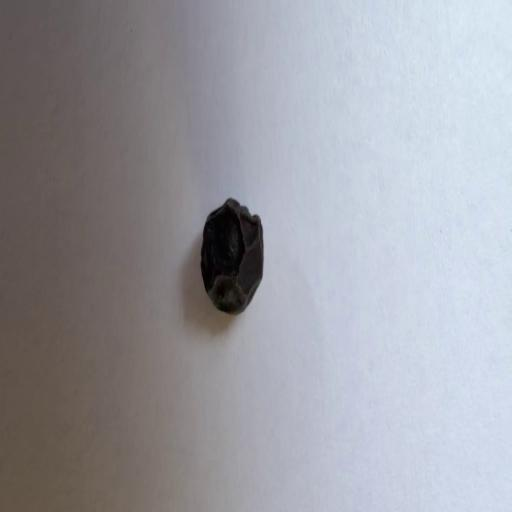Black_pepper: (164, 144, 288, 355)
